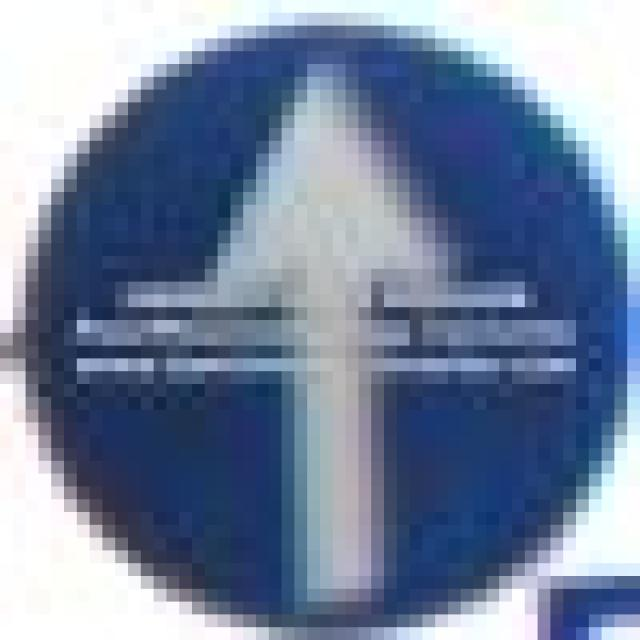cattle: (0, 13, 627, 627)
